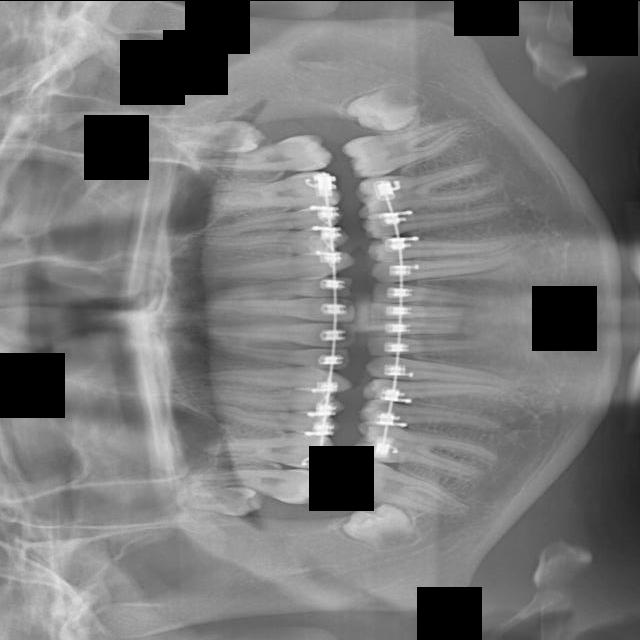3M ESPE Implant: (175, 485, 263, 518)
AGS Medikal Implant: (339, 112, 486, 180)
AMerOss Implant: (350, 154, 507, 221)
Amalgam filling: (186, 464, 329, 504)
Anthogyr Implant: (361, 195, 514, 239)
Bicon Implant: (363, 227, 522, 262)
BioHorizons Implant: (366, 248, 518, 284)
BioLife Implant: (368, 282, 487, 306)
Biomet 3i Implant: (366, 303, 482, 320)
Blue Sky Bio Implant: (365, 319, 486, 336)
Camlog Implant: (365, 337, 492, 355)
Caries: (200, 275, 354, 298)
Composite filling: (363, 353, 522, 388)
Cowellmedi Implant: (357, 376, 515, 408)
Crown: (356, 398, 507, 438)
DENTSPLY Implant: (207, 428, 335, 471)
Dentatus Implant: (349, 419, 502, 484)
Dentis Implant: (458, 506, 467, 509)
Dentium Implant: (338, 497, 421, 560)
Euroteknika Implant: (193, 401, 340, 436)
Filling: (179, 381, 346, 415)
Frontier Implant: (184, 356, 354, 393)
Hiossen Implant: (197, 248, 357, 288)
Implant: (197, 320, 360, 347)
Implant Direct: (200, 339, 351, 370)
Keystone Dental Implant: (180, 295, 360, 323)
MIS Implant: (185, 224, 349, 262)
Mandible: (185, 203, 347, 241)
Maxilla: (207, 167, 343, 218)
Megagen Implant: (201, 156, 203, 157)
Neodent Implant: (172, 116, 271, 151)
Neoss Implant: (343, 76, 429, 143)
